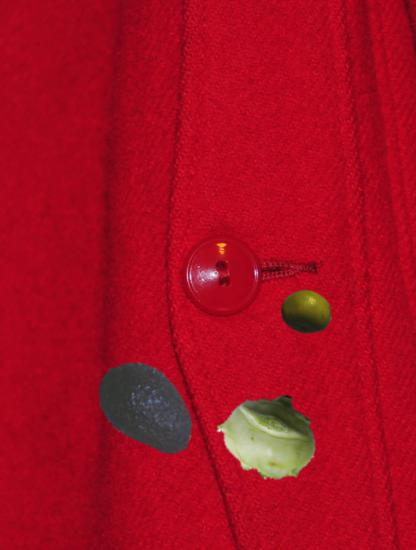Avocado: (94, 354, 203, 463)
Kohlrabi: (217, 384, 319, 486)
Pomelo: (281, 286, 333, 338)
